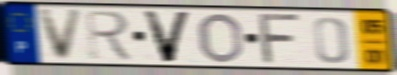0: (312, 15, 351, 65)
F: (258, 13, 304, 66)
O: (197, 11, 245, 65)
R: (83, 8, 136, 63)
V: (139, 9, 195, 65), (36, 8, 86, 63)
